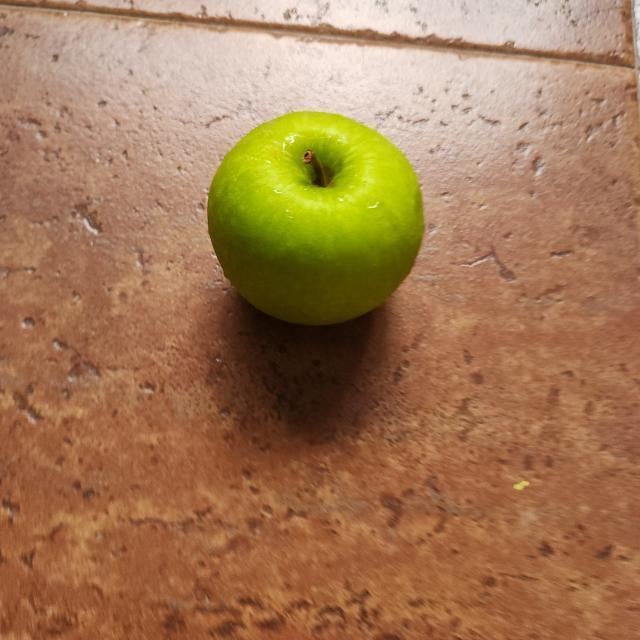apple: (202, 101, 428, 342)
